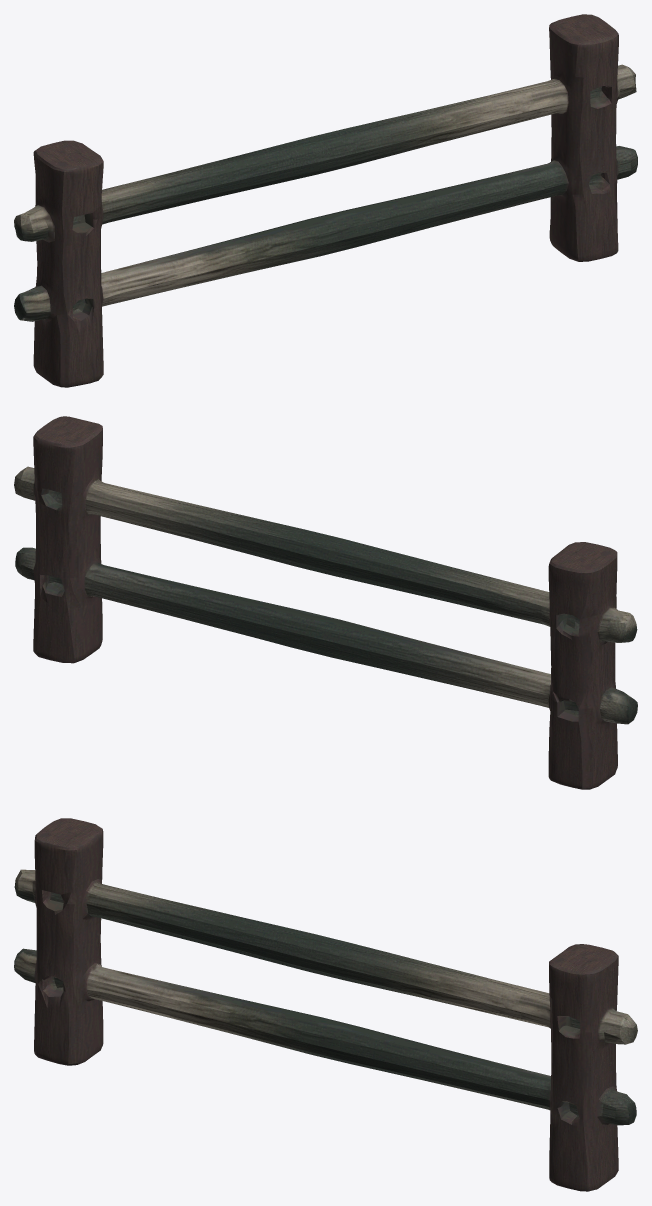
File: ok-fence-post-pixelated.glb
The picture shows the model from 3 angles, top to bottom: view 1: azimuth 30°, elevation 25°; view 2: azimuth 150°, elevation 25°; view 3: azimuth 330°, elevation 25°; orthographic projection.
Visible parts, largest first — view 1: 0; view 2: 0; view 3: 0.
Boxes of the visible parts, x1,y1,x2,y2 form: 0: [14, 14, 637, 387]; 0: [14, 416, 637, 789]; 0: [14, 818, 637, 1191].
Bounding box in the file's own units: 1.9 × 0.6458 × 0.1765.
Materials: 1 (1 with a texture image).
